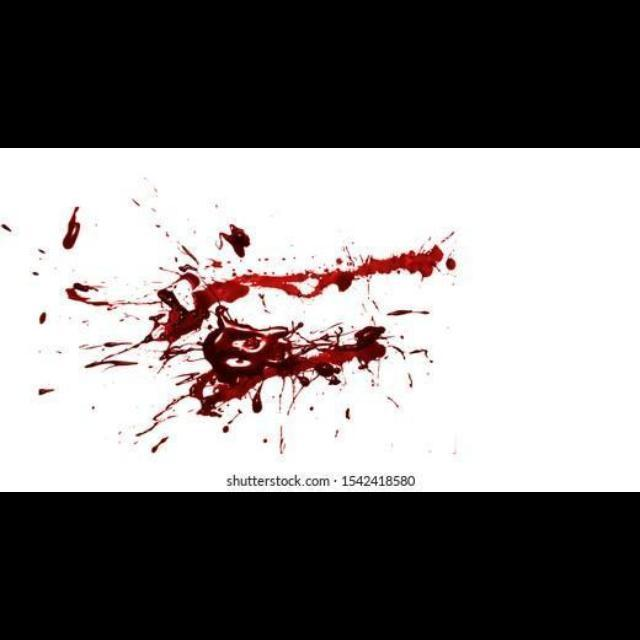blood: (122, 244, 444, 428), (65, 282, 160, 310), (220, 224, 250, 257), (63, 206, 80, 248), (223, 410, 242, 433), (85, 361, 138, 368), (182, 245, 199, 264), (135, 424, 158, 437), (151, 437, 168, 454), (79, 344, 132, 349), (279, 426, 287, 454), (388, 310, 431, 315), (389, 347, 406, 359), (410, 349, 430, 358), (28, 264, 40, 277), (207, 259, 223, 268), (39, 389, 54, 396), (0, 223, 11, 231), (38, 312, 44, 323), (346, 408, 351, 419), (263, 438, 268, 444)
